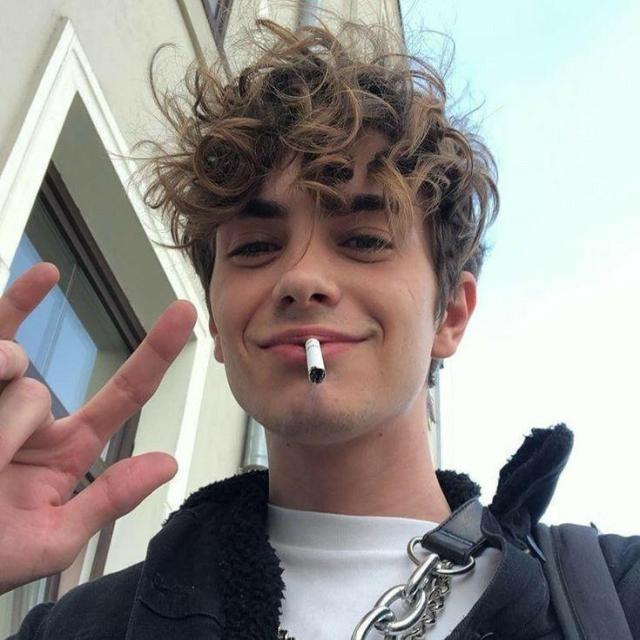cigarette: (285, 321, 347, 400)
